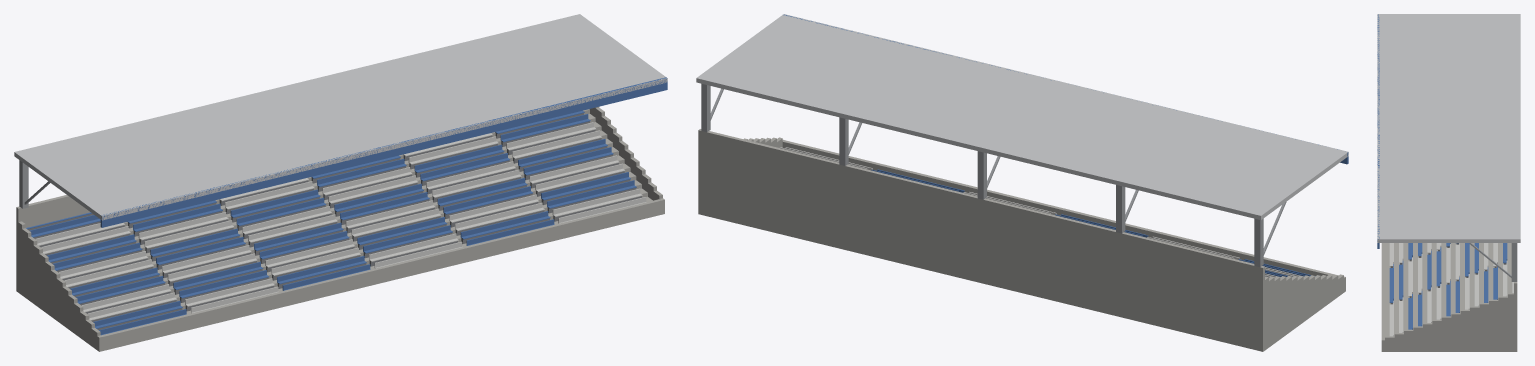
Rendered from stadium-stand.v1.lod0.glb.
3 renders of one model, left to right at view 1: azimuth 30°, elevation 25°; view 2: azimuth 150°, elevation 25°; view 3: azimuth 270°, elevation 25°, orthographic. The views are drawn at different scales.
Visible parts, largest first — view 1: stadium-stand; view 2: stadium-stand; view 3: stadium-stand.
Part boxes in pixels (left/top/right/bottom): stadium-stand: left=14, top=14, right=667, bottom=351; stadium-stand: left=696, top=14, right=1348, bottom=351; stadium-stand: left=1377, top=14, right=1520, bottom=351.
Size of the model in its own units: 48 by 11.17 by 12.9.
